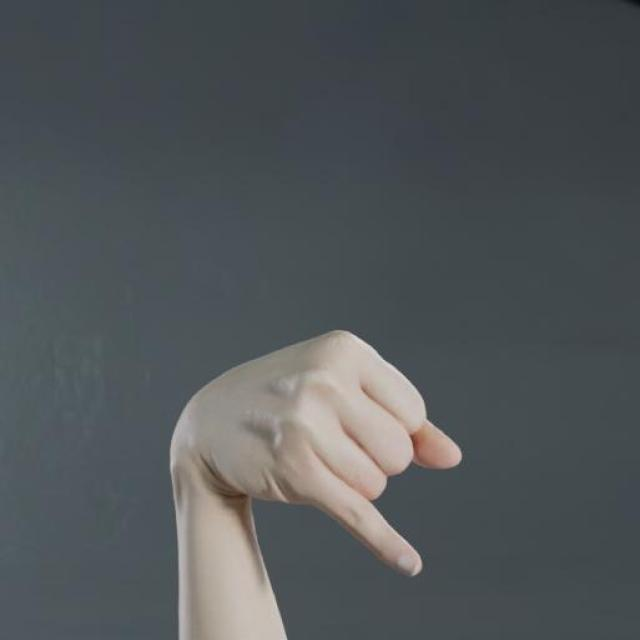J: (135, 307, 482, 594)
